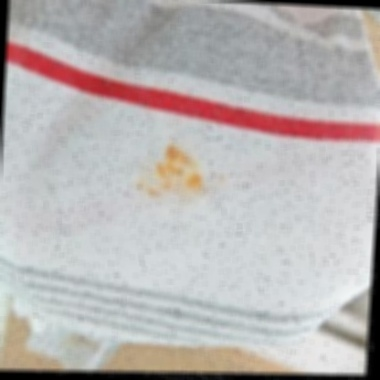kimchi: (131, 147, 208, 204)
